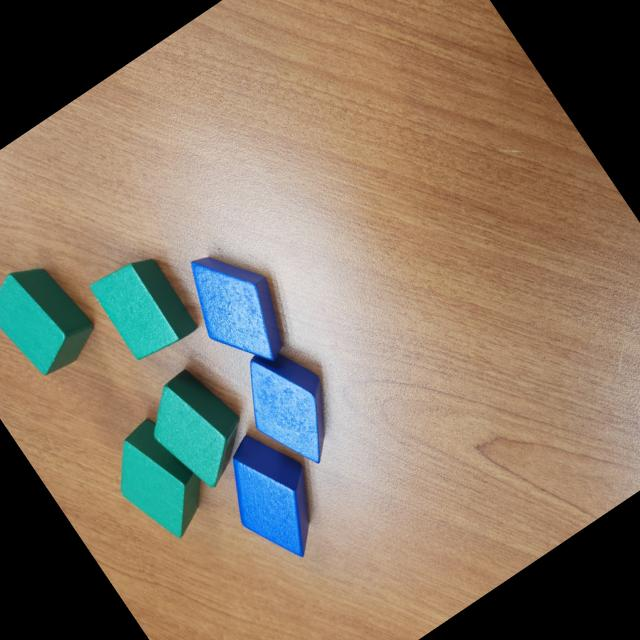blue: (202, 418, 346, 574), (168, 232, 309, 386), (222, 332, 359, 481)
green: (132, 357, 266, 500), (94, 412, 222, 551), (0, 248, 106, 388), (86, 245, 202, 368)
